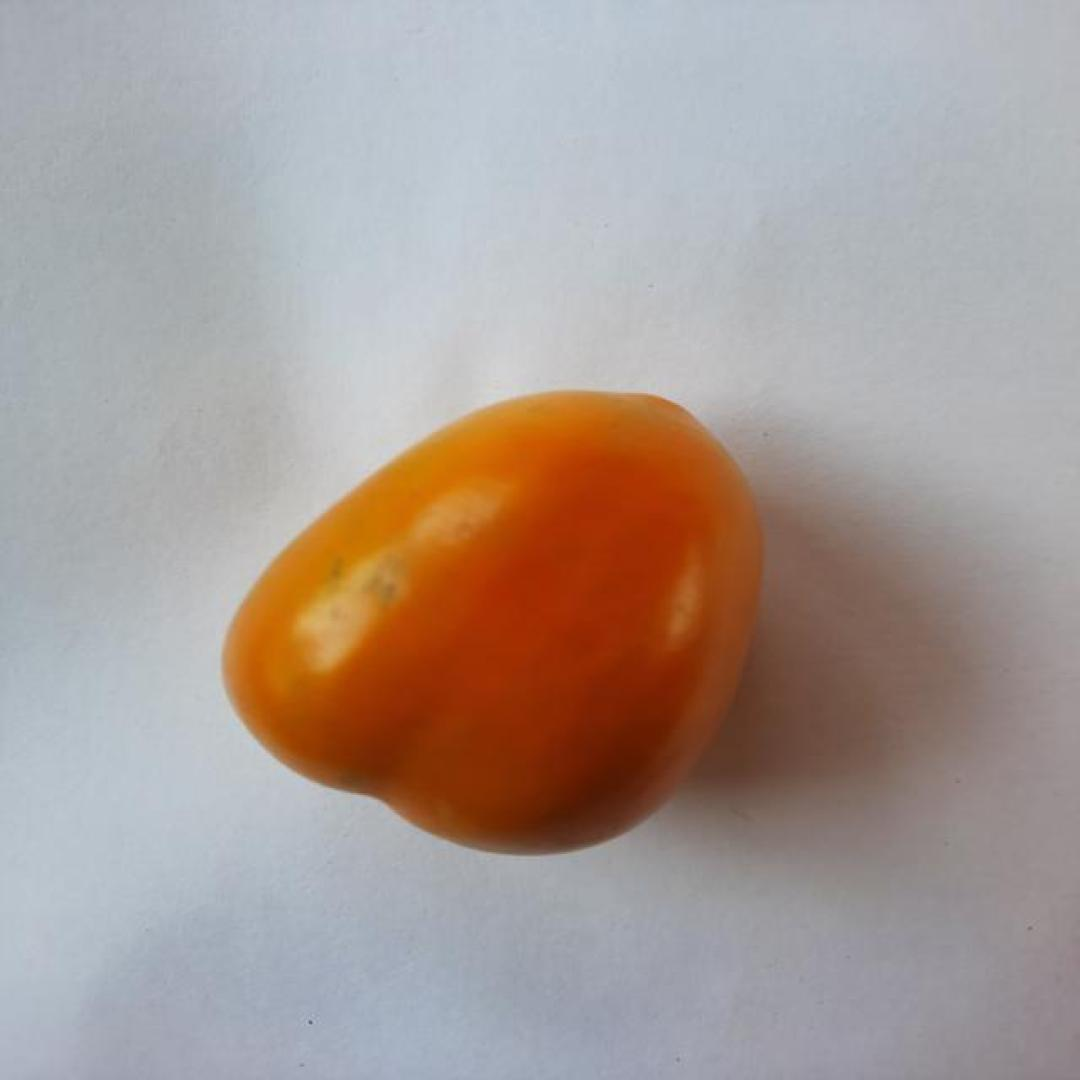setengah_matang: (218, 386, 768, 862)
